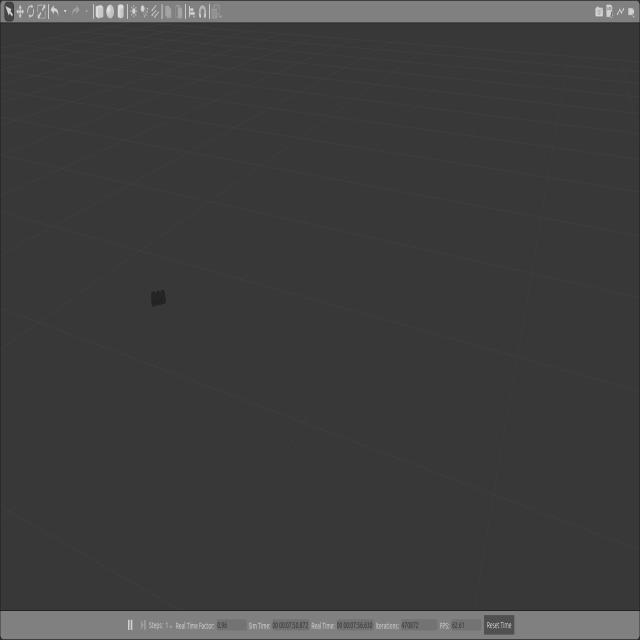block6: (151, 290, 166, 307)
